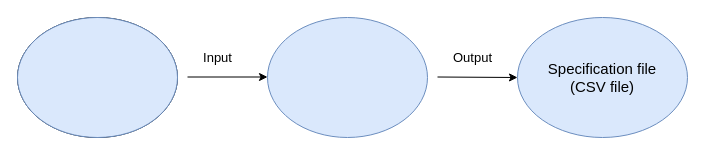
The diagram is 705 pixels wide and 155 high, and some of its shapes have lost their labels. Here are the shapes that lost their labels. From the top down, the centre of each, then its label:
At point (97, 77): "Tibco XML".
At point (347, 77): "Mapping Generator".
